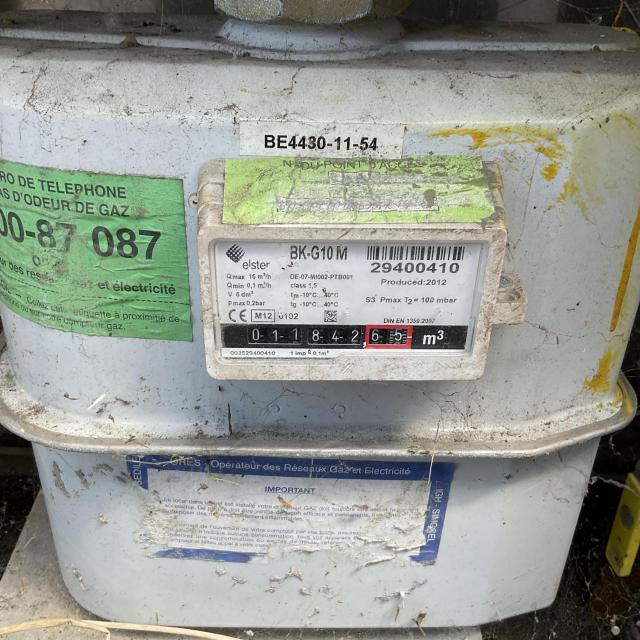gaz_meter: (211, 239, 490, 361)
indication: (226, 323, 412, 349)
